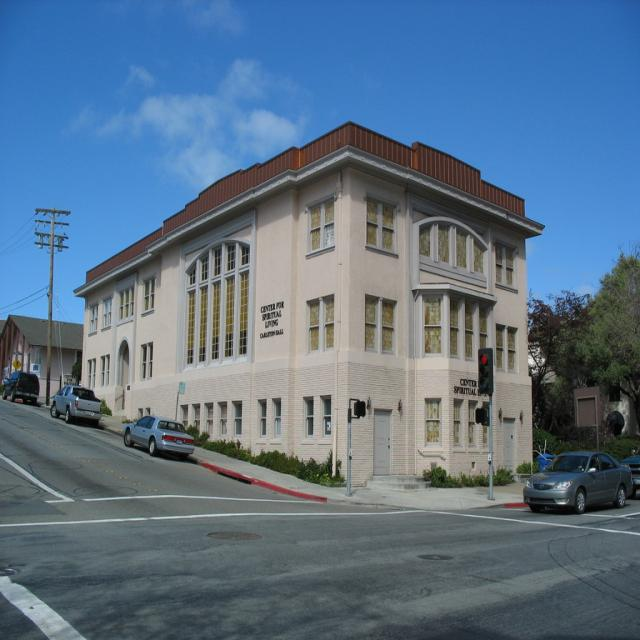car: (520, 451, 635, 518), (122, 412, 196, 457), (1, 367, 41, 401)
